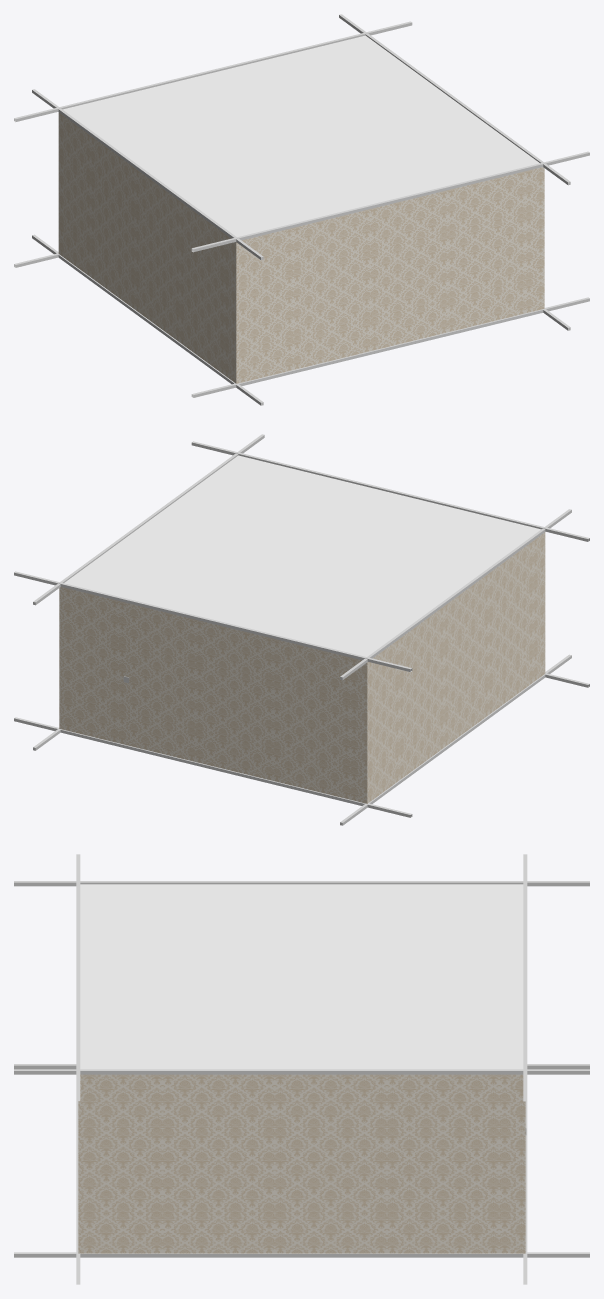
The model's file is room.fbx.
The picture shows the model from 3 angles, top to bottom: view 1: azimuth 30°, elevation 25°; view 2: azimuth 150°, elevation 25°; view 3: azimuth 270°, elevation 25°; orthographic projection. The views are drawn at different scales.
Parts seen in each view (by area): view 1: Cube, Cube.003; view 2: Cube, Cube.003; view 3: Cube, Cube.003.
Boxes of the visible parts, x1,y1,x2,y2 form: Cube: (58,35,544,383); Cube.003: (14,14,589,405); Cube: (59,455,545,803); Cube.003: (14,434,589,825); Cube: (78,884,525,1253); Cube.003: (14,854,589,1284).
Size of the model in its own units: 1072 by 384 by 1072.
Materials: 7 (2 with a texture image).
